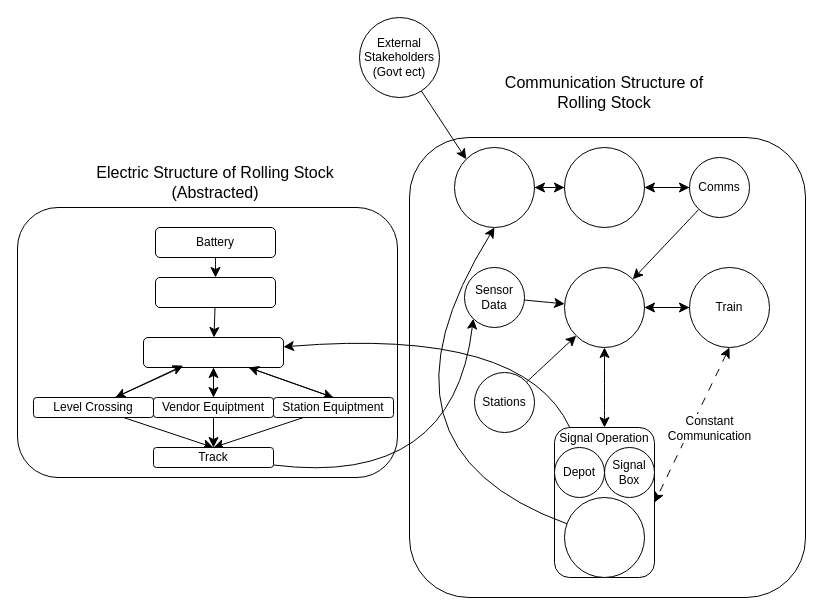
Image size: 823x615. Some labels were removed from this diagram. Each missing label, with the centre of its shape:
"Dispatch" goes at (x=604, y=307).
"Driver Commands" goes at (x=215, y=292).
"Emergency Telephone" goes at (x=604, y=537).
"Management" goes at (x=604, y=187).
"Signalling Equiptment" goes at (x=213, y=352).
"Substation" goes at (x=494, y=187).
